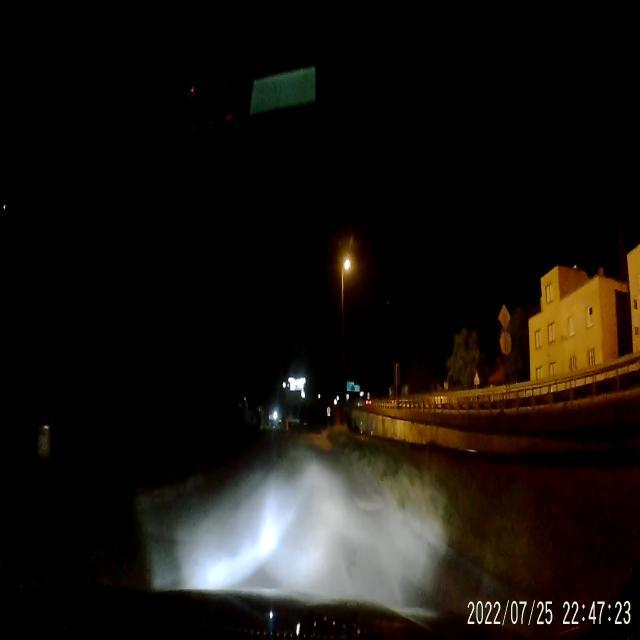Pothole: (353, 486, 384, 518)
